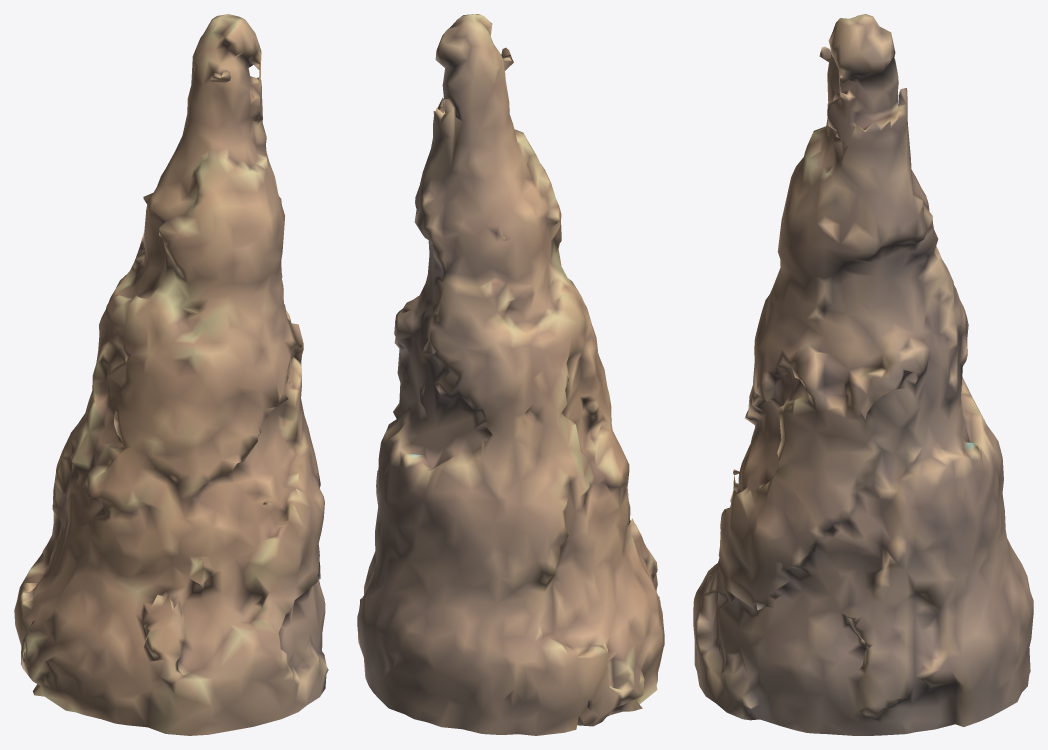
The model's file is env_fr_spire_0.glb.
The picture shows the model from 3 angles, left to right: view 1: azimuth 30°, elevation 25°; view 2: azimuth 150°, elevation 25°; view 3: azimuth 270°, elevation 25°; orthographic projection. The views are drawn at different scales.
Visible parts, largest first — view 1: geometry_0; view 2: geometry_0; view 3: geometry_0.
Part boxes in pixels (x1,y1,x2,y2): geometry_0: (14, 14, 328, 735); geometry_0: (357, 14, 664, 735); geometry_0: (693, 14, 1033, 735).
Bounding box in the file's own units: 6.59 × 14.76 × 6.64.
